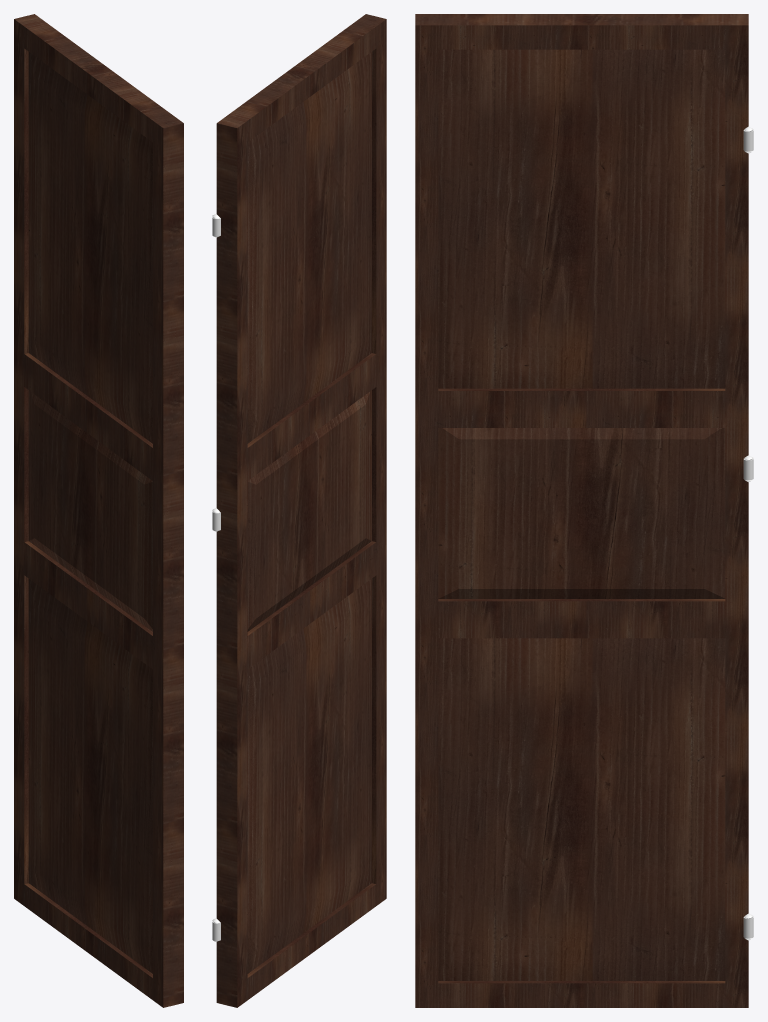
File: SM_D_Wood_7.fbx
The picture shows the model from 3 angles, left to right: view 1: azimuth 30°, elevation 25°; view 2: azimuth 150°, elevation 25°; view 3: azimuth 270°, elevation 25°; orthographic projection. The views are drawn at different scales.
Visible parts, largest first — view 1: SM_D_Wood_7; view 2: SM_D_Wood_7; view 3: SM_D_Wood_7.
Boxes of the visible parts, x1,y1,x2,y2 form: SM_D_Wood_7: (14, 14, 183, 1007); SM_D_Wood_7: (212, 14, 386, 1007); SM_D_Wood_7: (415, 14, 753, 1007).
Bounding box in the file's own units: 6.18 × 66.41 × 213.
Materials: 2 (2 with a texture image).
